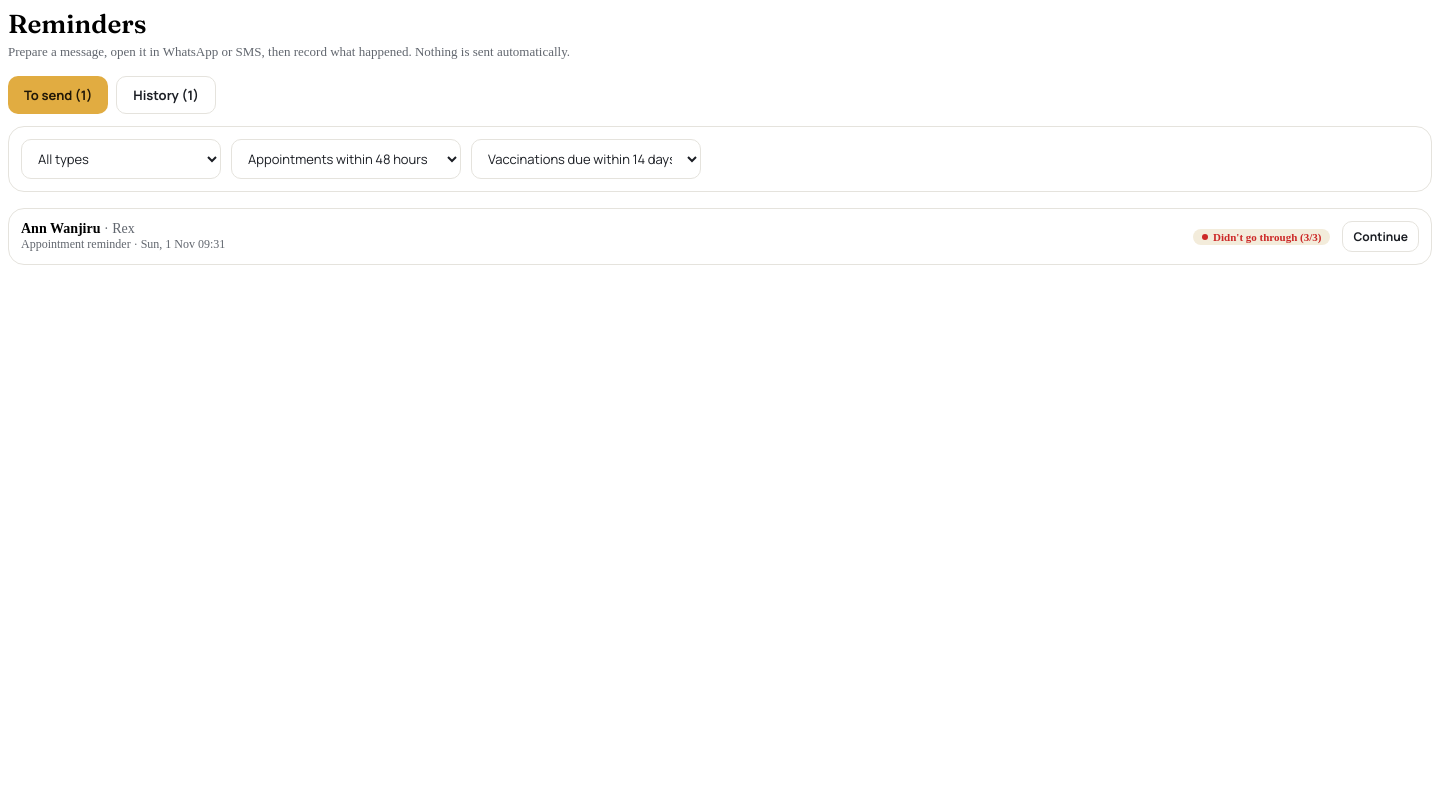
Test: RemindersPage › stops retrying after three failures
Click the button with aria-label "Message Ann Wanjiru about Rex". click: [1381, 236]
box: [1342,221,1419,252]
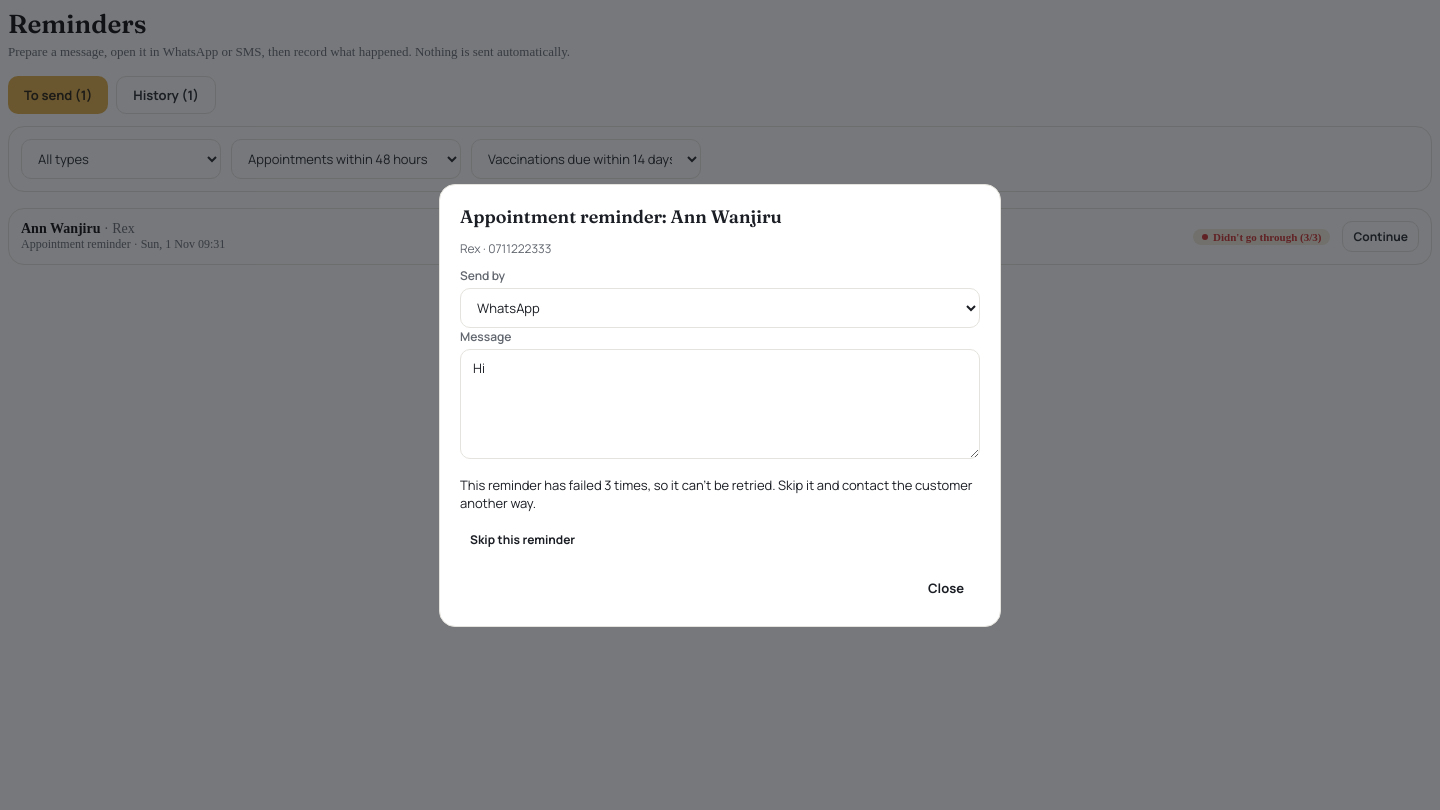
Now the text "failed 3 times" is shown, box [460,476,980,512]
